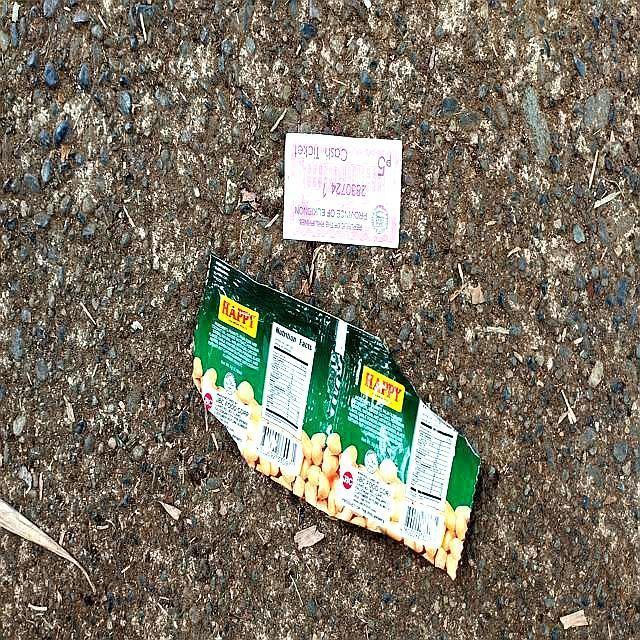Non-biodegradable: (191, 252, 483, 581)
